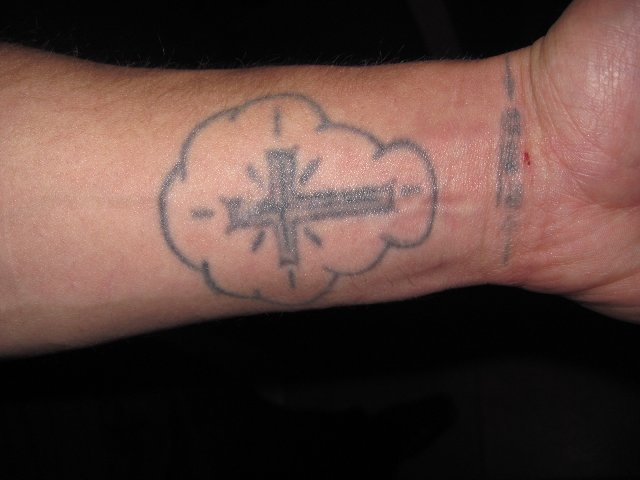tatu9_krest: (214, 138, 414, 263)
